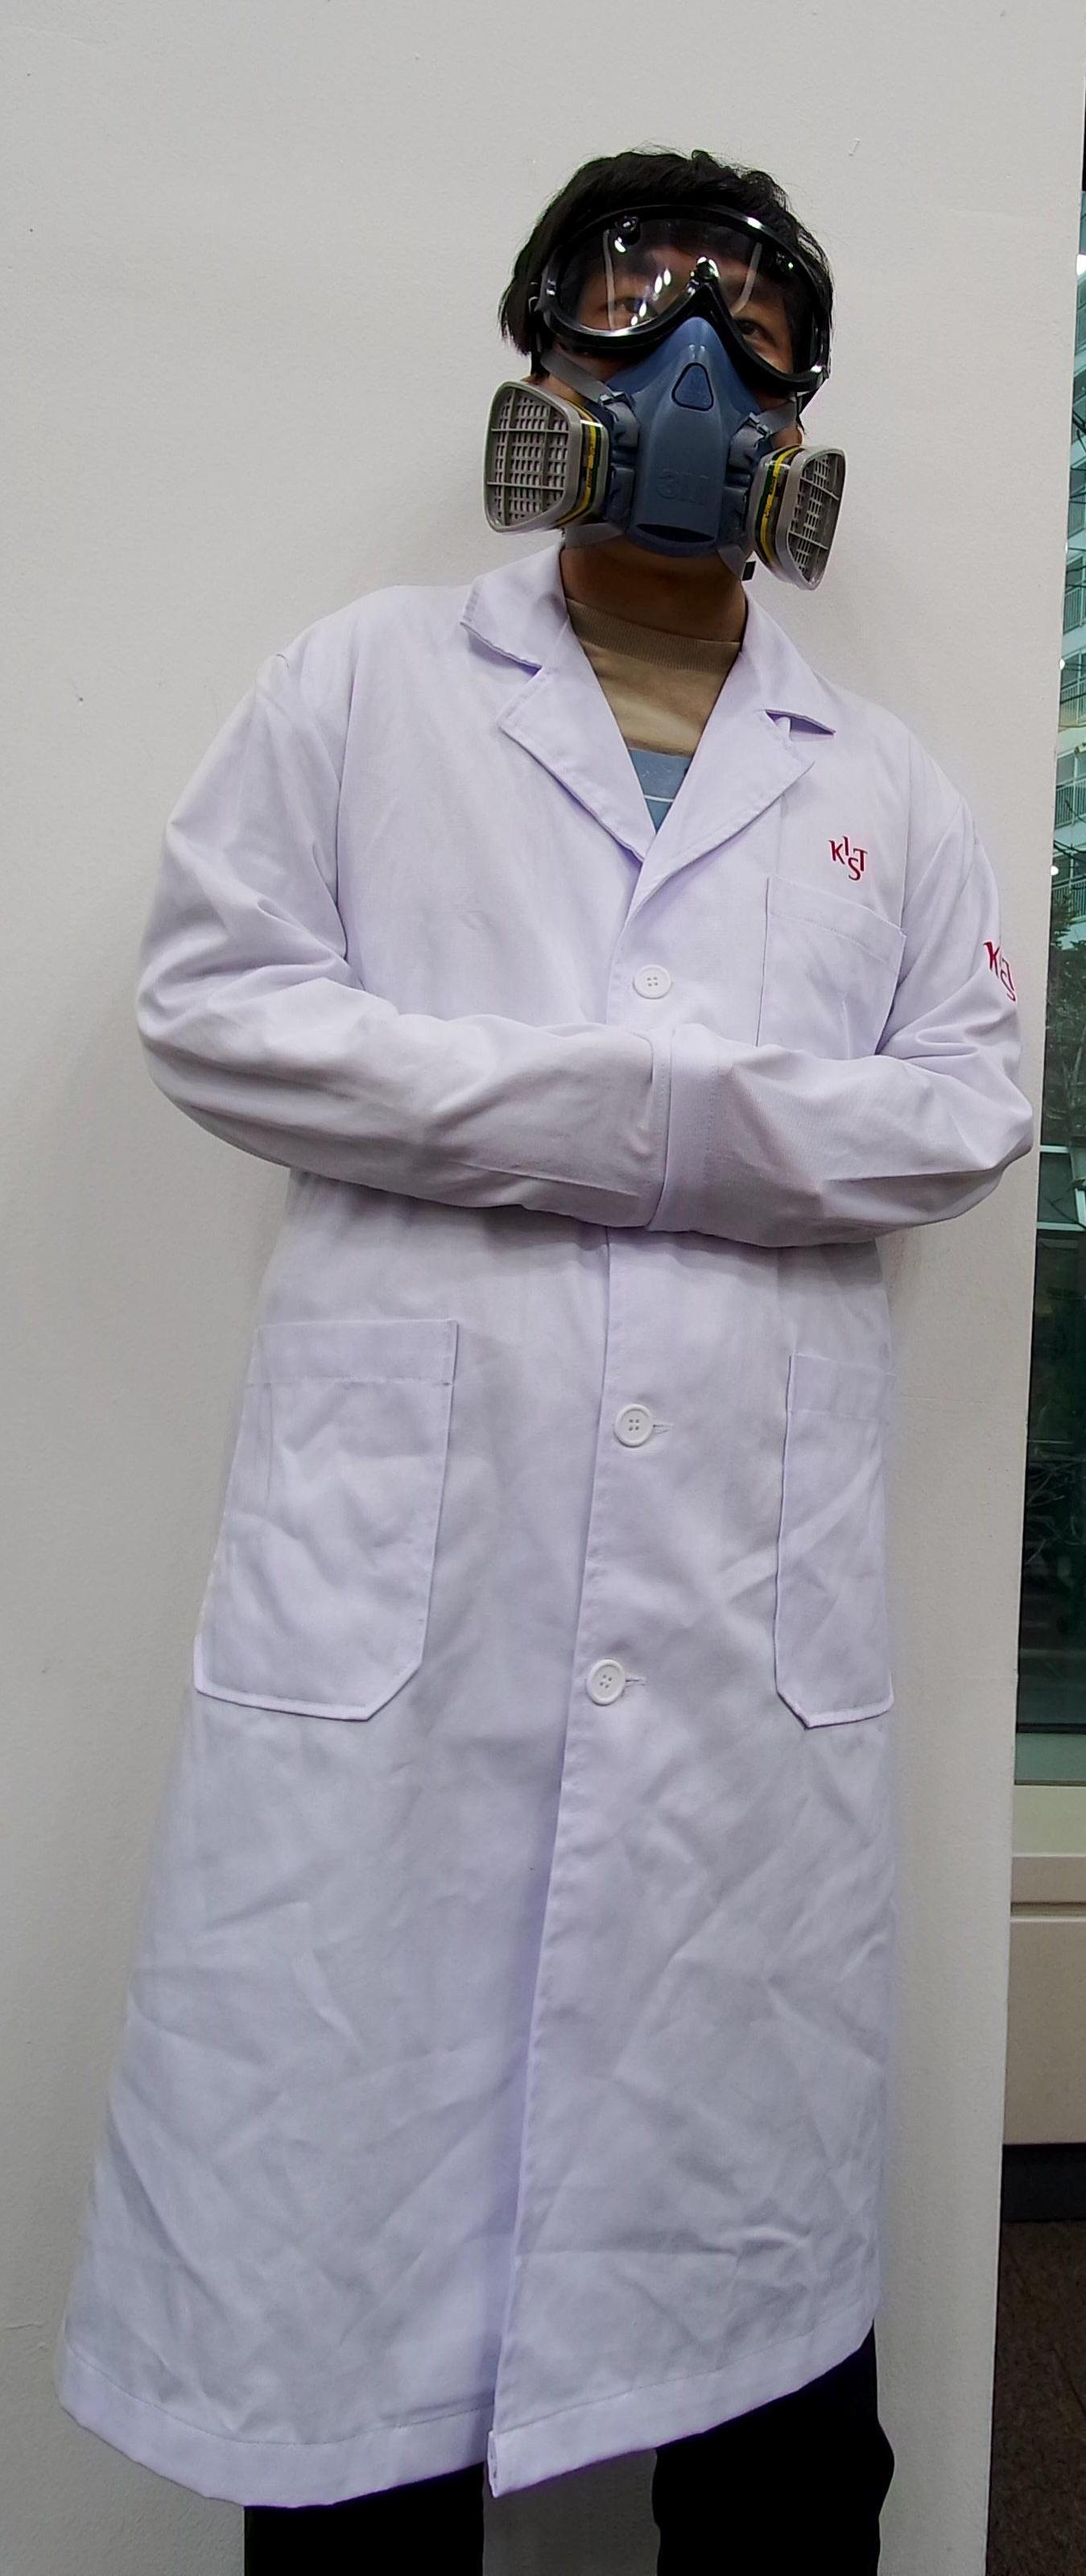lab_coat: (94, 582, 1028, 2484)
